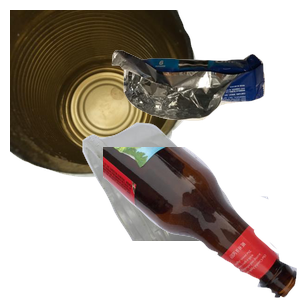glass: (103, 147, 300, 300)
metal: (10, 10, 200, 180)
plastic: (80, 120, 289, 300)
trash: (109, 47, 300, 160)
